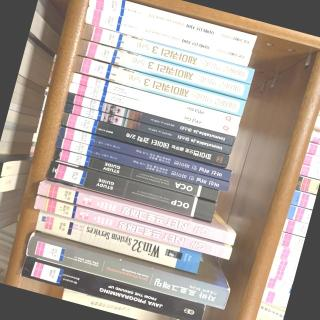book-spine: (26, 235, 229, 310), (34, 196, 232, 261), (36, 182, 236, 246), (21, 256, 205, 320), (45, 160, 216, 223), (73, 55, 246, 117), (34, 211, 202, 274), (80, 24, 254, 84), (76, 39, 250, 99), (83, 7, 251, 66), (56, 126, 231, 182), (54, 137, 230, 192), (60, 112, 229, 168), (68, 82, 238, 136), (65, 92, 235, 146), (71, 72, 240, 126), (64, 102, 232, 156), (53, 148, 219, 202), (86, 0, 257, 51)
